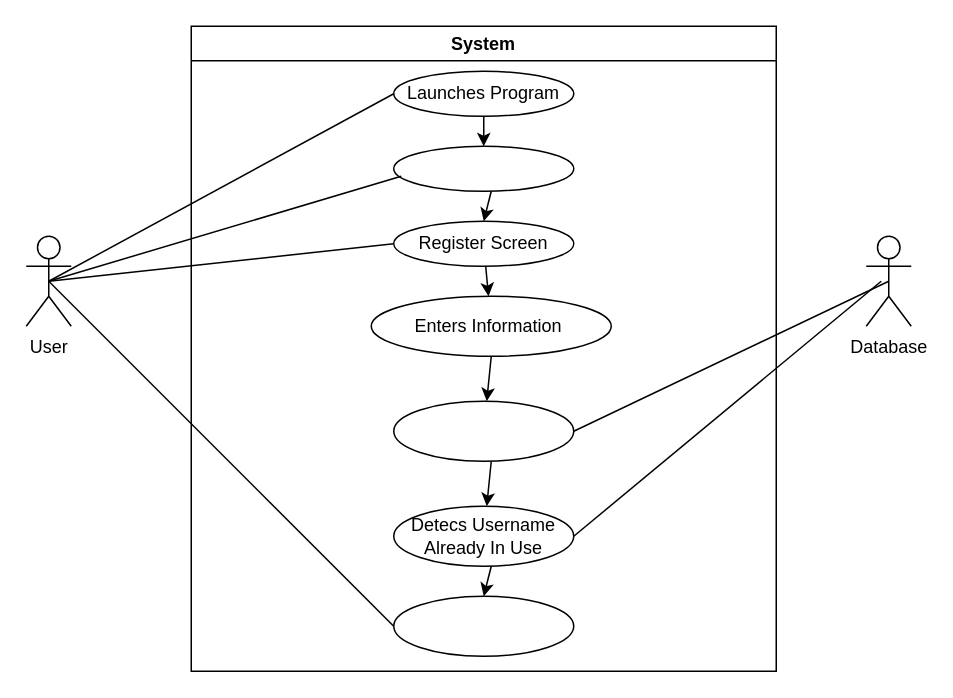
Image size: 953x698. Some labels were removed from this diagram. The box of each missing label's shape, as (x1, y1, x2, y2) in pixels:
Error Displayed, Try Again: (392, 595, 574, 656)
Login Screen: (392, 145, 574, 191)
System Authenticates Information: (392, 400, 574, 461)
